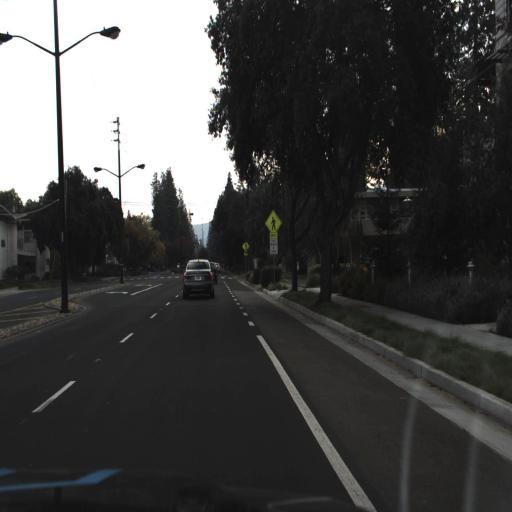car: (180, 256, 217, 302)
